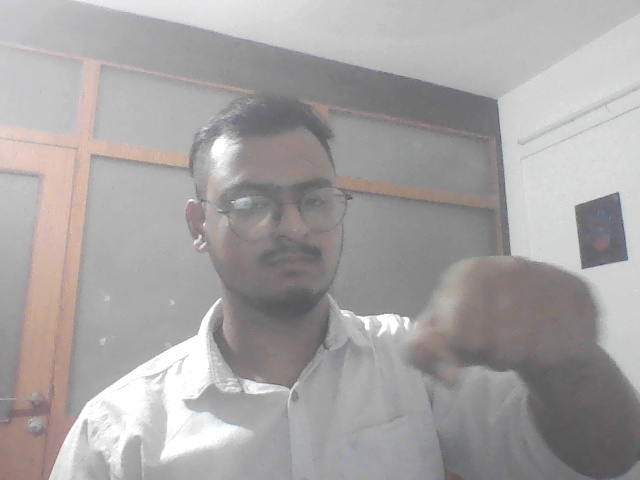YES: (388, 252, 619, 389)
